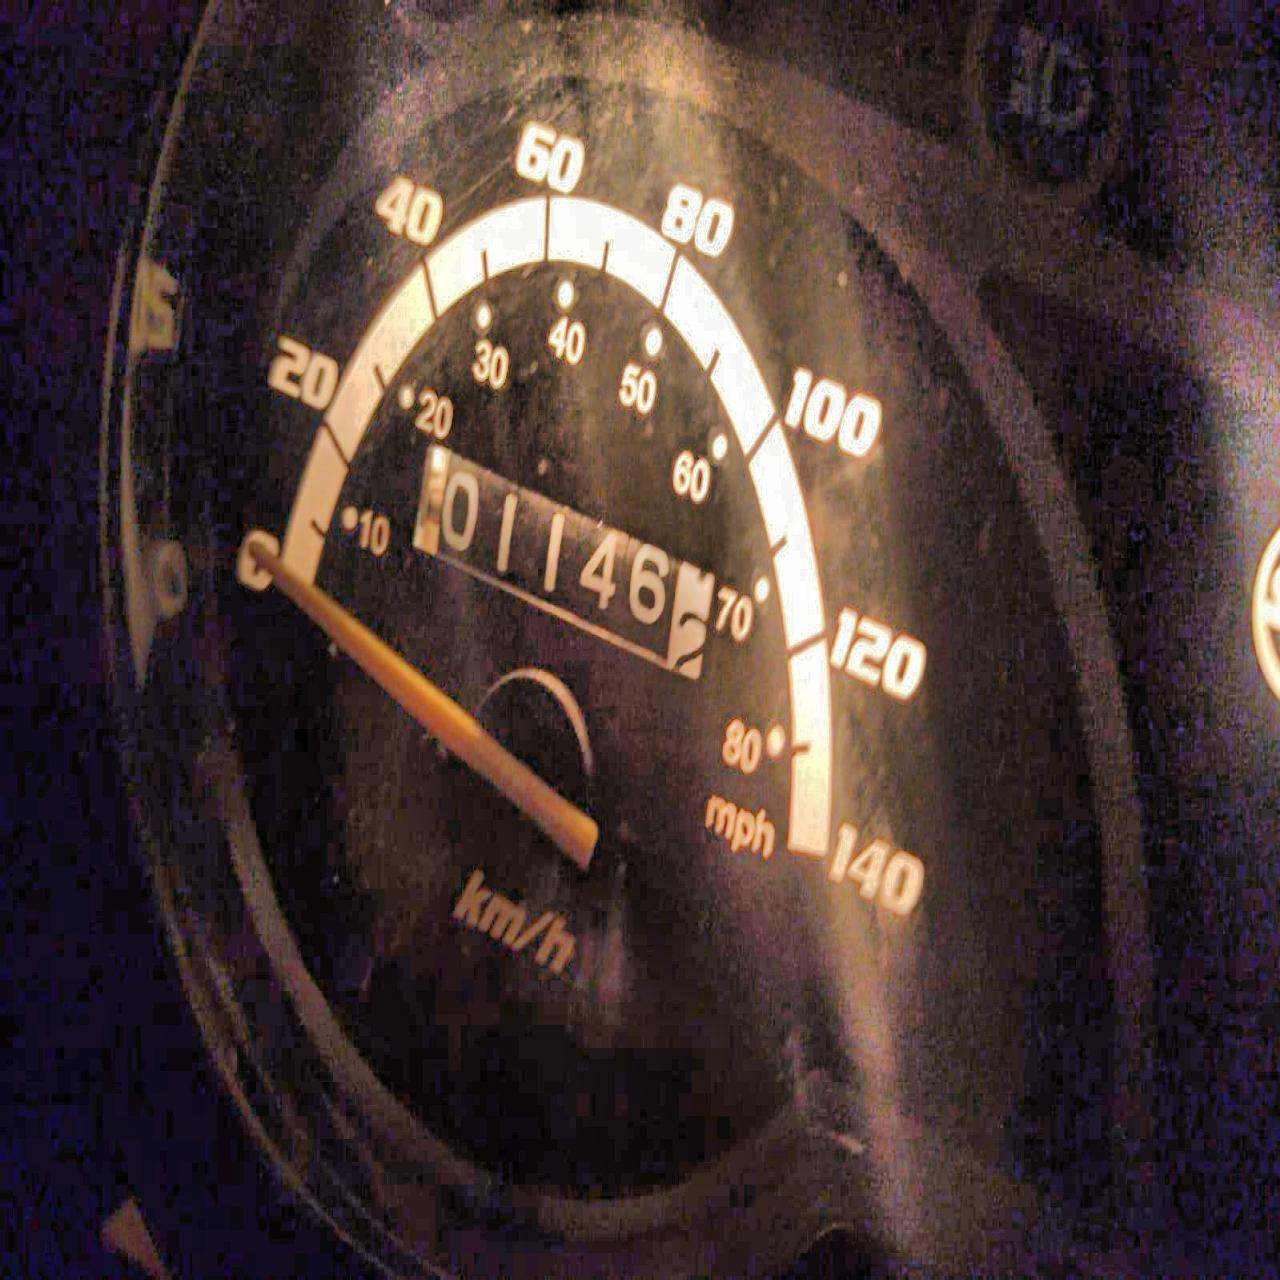0: (438, 459, 478, 549), (688, 449, 710, 503)
1: (538, 503, 568, 598), (497, 476, 519, 578)
2: (675, 595, 708, 679)
4: (579, 515, 620, 612)
6: (628, 533, 667, 622), (673, 445, 695, 499)
odometer: (410, 441, 716, 688)
